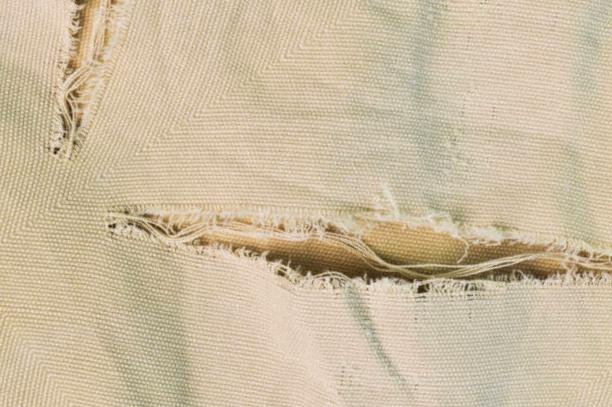hole: (97, 200, 609, 306), (50, 1, 116, 170)
